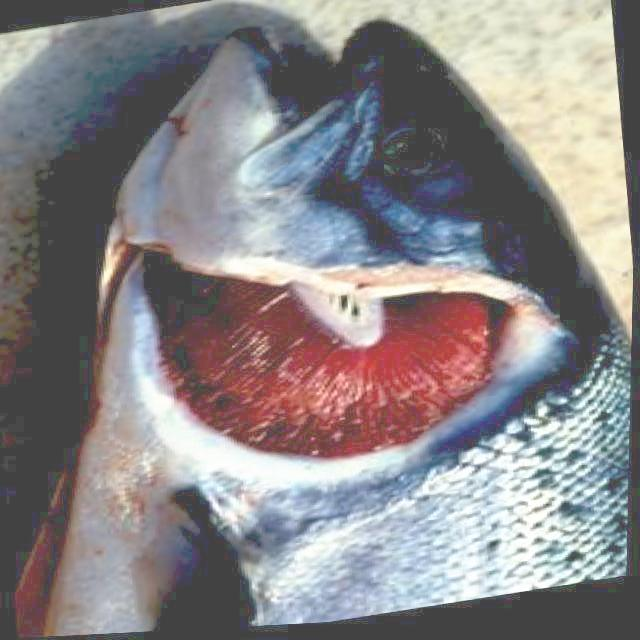Flavobacterium -Bacterial Gill Disease-: (21, 21, 629, 636)
